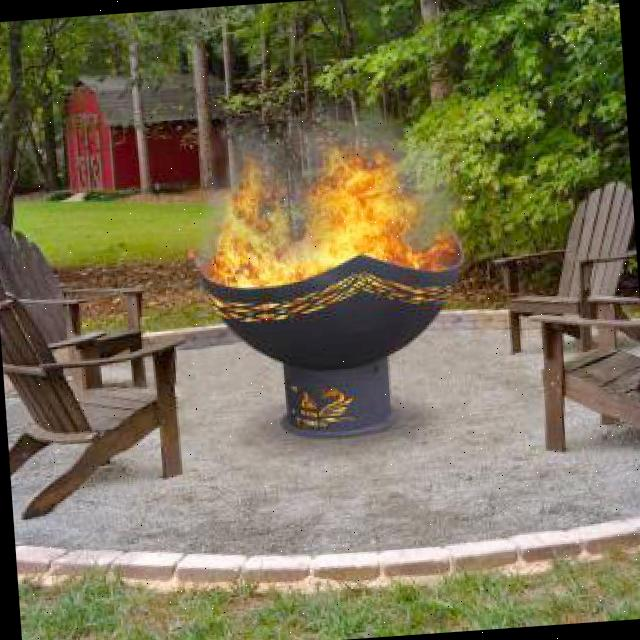fire: (207, 127, 426, 305), (397, 128, 464, 266)
